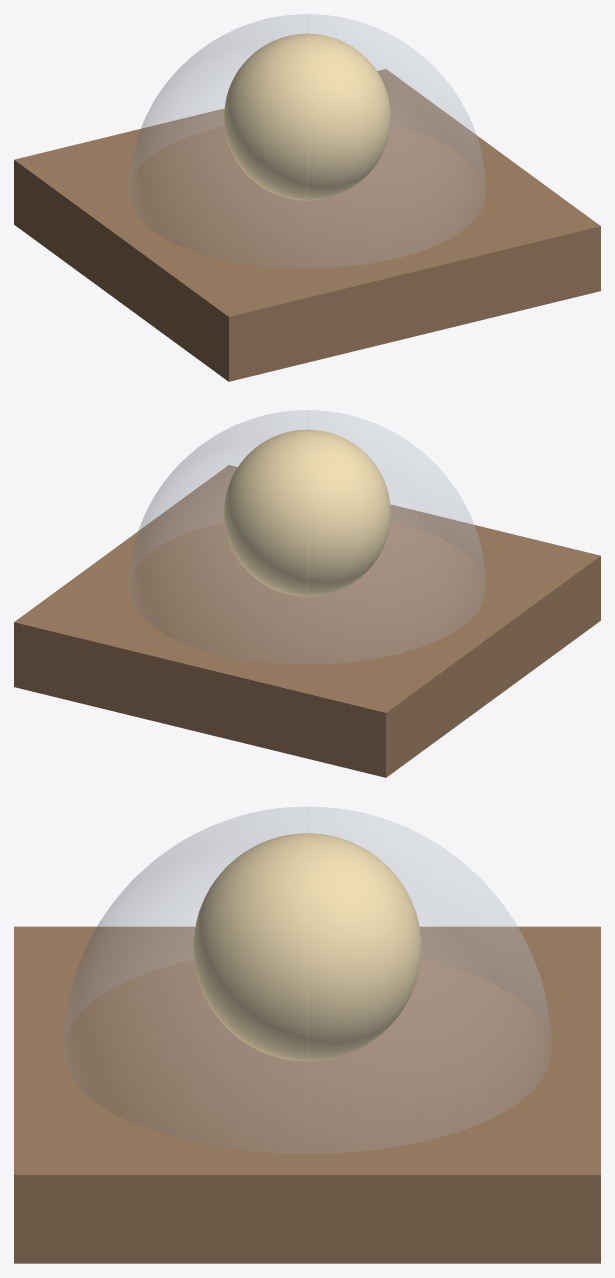
Rendered from glass.glb.
3 views of the same model, one above another, from view 1: azimuth 30°, elevation 25°; view 2: azimuth 150°, elevation 25°; view 3: azimuth 270°, elevation 25° (orthographic). The views are drawn at different scales.
Visible parts, largest first — view 1: Plinth, Dome, Orb; view 2: Plinth, Dome, Orb; view 3: Plinth, Dome, Orb.
Part boxes in pixels (x1,y1,x2,y2): Plinth: [14, 69, 600, 381]; Dome: [128, 14, 486, 268]; Orb: [224, 33, 390, 200]; Plinth: [14, 465, 600, 777]; Dome: [128, 410, 486, 664]; Orb: [224, 429, 390, 596]; Plinth: [14, 926, 600, 1263]; Dome: [63, 806, 551, 1153]; Orb: [193, 833, 421, 1061].
Bounding box in the file's own units: 0.36 × 0.21 × 0.36.
